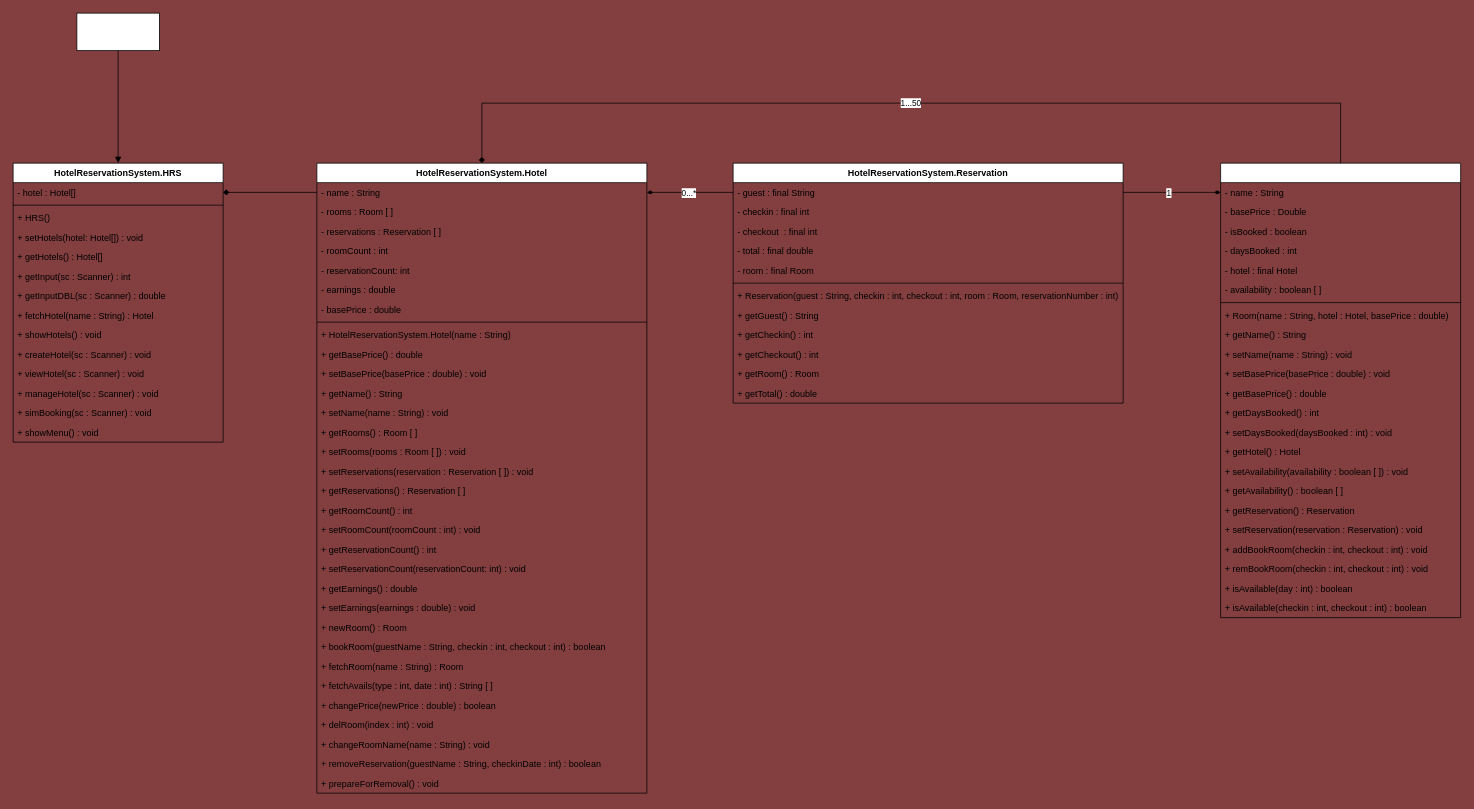
Image size: 1474x809. Some labels were removed from this diagram. Each missing label, with the box of its shape:
Driver: (76, 12, 159, 51)
HotelReservationSystem.Room: (1220, 162, 1461, 618)
